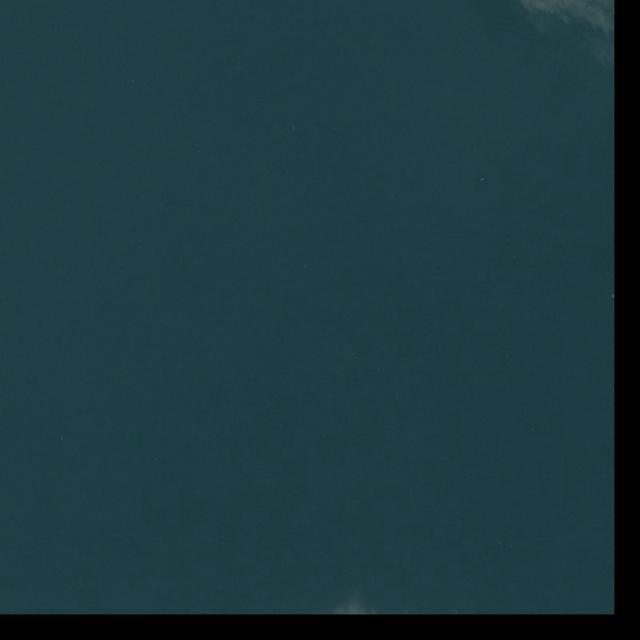ship: (480, 177, 486, 182)
